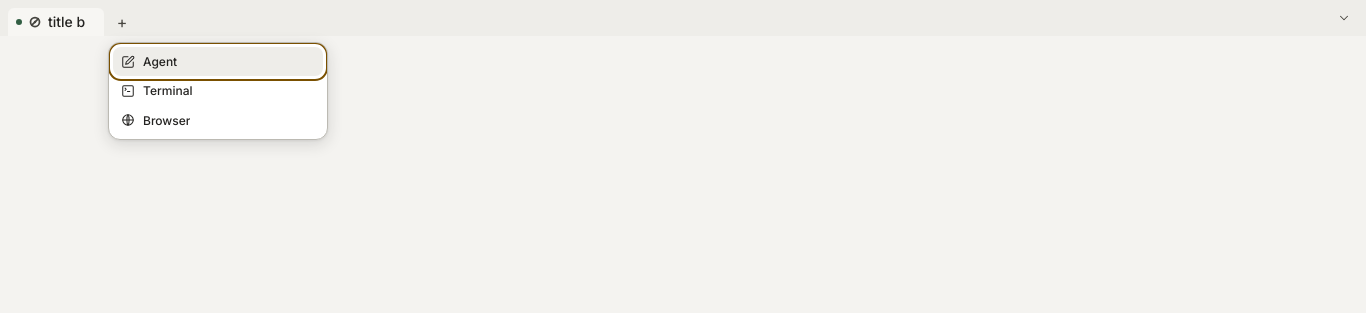
SessionStrip overview trigger › yields a standing sibling menu when the overview opens
expect the button named "New tab" is shown: met, box [108,8,136,36]
Hover over the button with class "workspace-rate": (1344, 18) [1330,6,1358,30]
Wait 200 ms
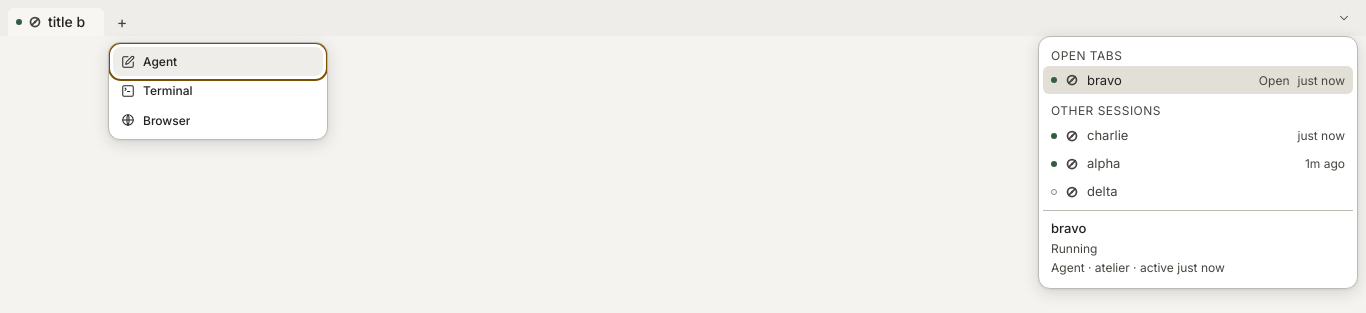
expect the list is shown: met, box [1043,41,1353,206]
